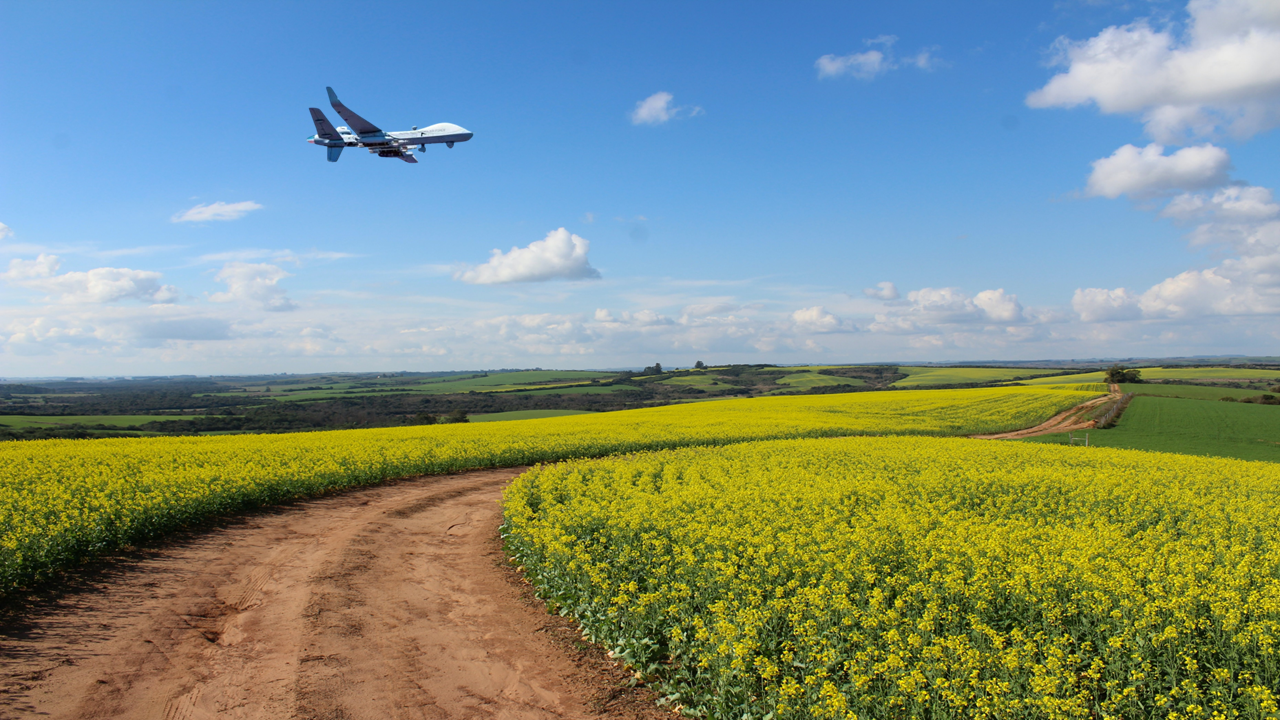military drone: (306, 86, 473, 163)
